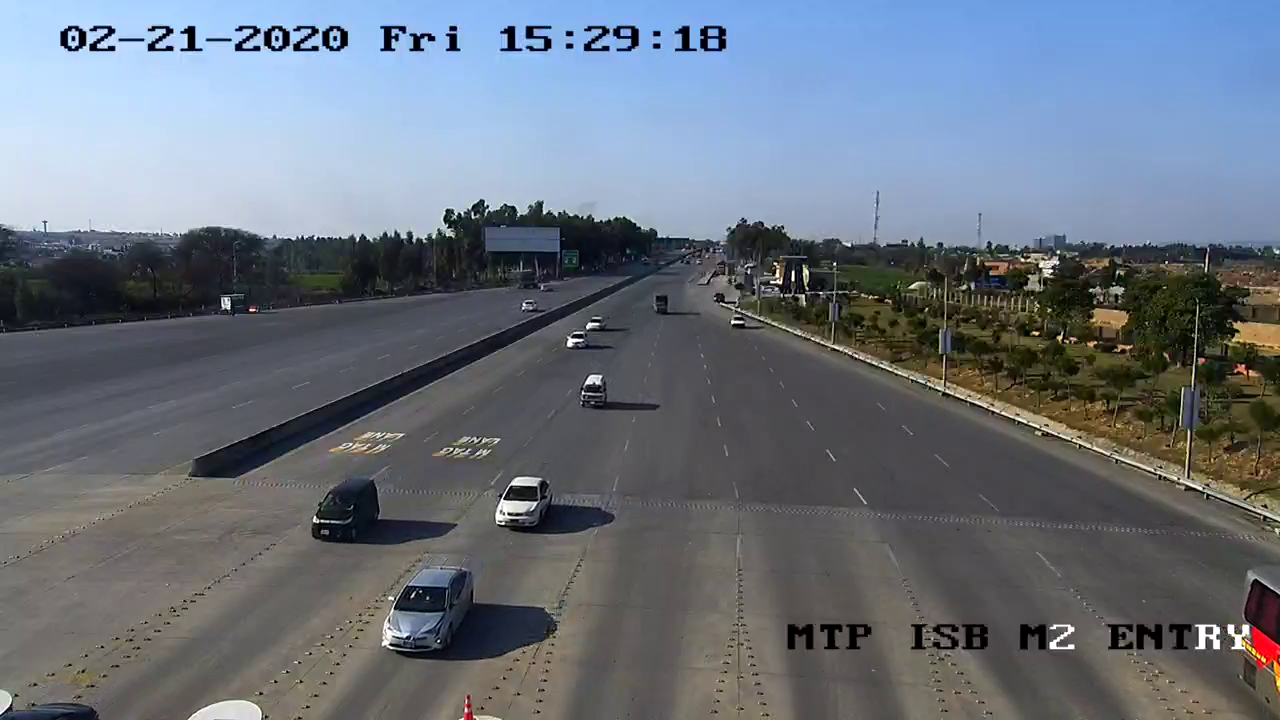f1: (372, 549, 485, 663), (303, 466, 394, 551), (488, 469, 562, 538)
